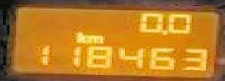-: (160, 29, 167, 35)
0: (164, 11, 189, 32), (136, 11, 160, 32)
1: (34, 42, 54, 65), (65, 42, 83, 67)
3: (178, 46, 207, 71)
4: (114, 45, 143, 69)
6: (145, 45, 176, 70)
8: (82, 43, 111, 67)
X: (71, 29, 85, 42), (85, 33, 103, 42)
